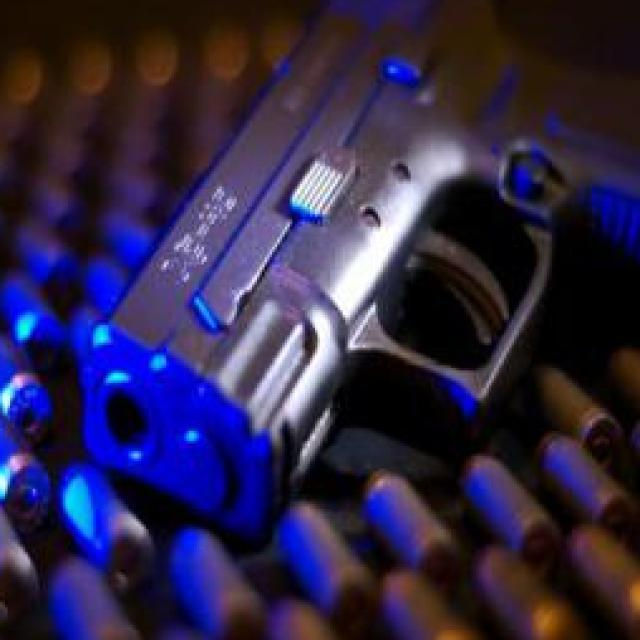pistol: (88, 0, 640, 529)
